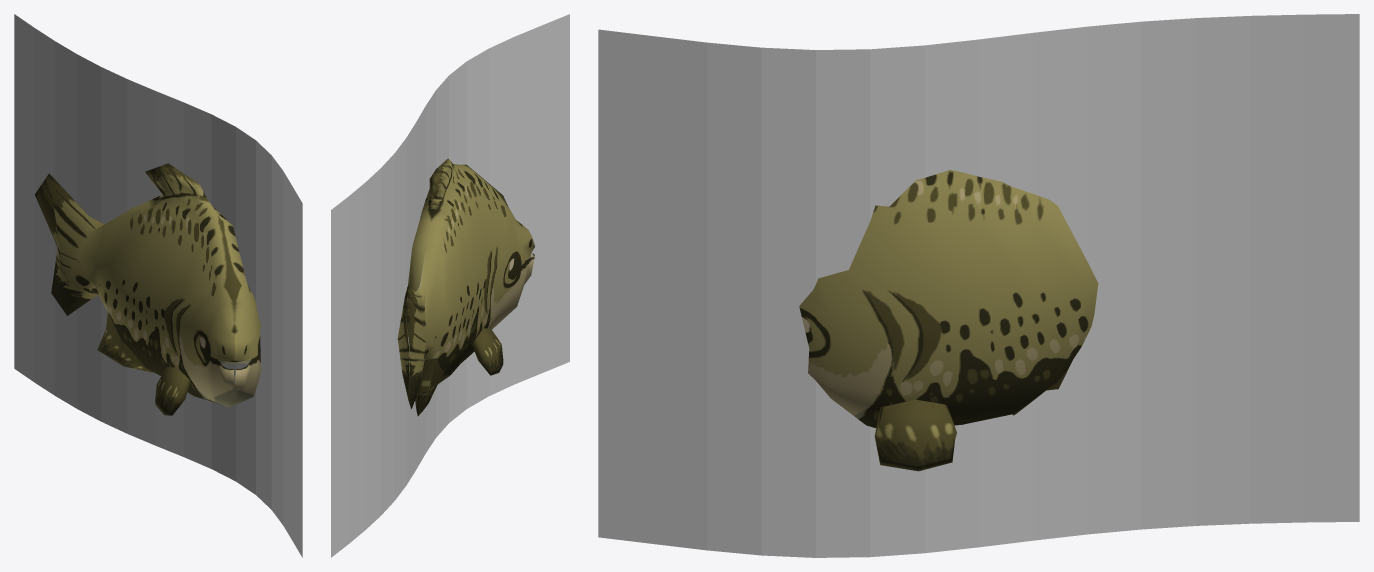
Rendered from Tambaquinadando.fbx.
3 views of the same model, side by side, from view 1: azimuth 30°, elevation 25°; view 2: azimuth 150°, elevation 25°; view 3: azimuth 270°, elevation 25° (orthographic). The views are drawn at different scales.
Parts seen in each view (by area): view 1: Plane, tAmbaqui; view 2: Plane, tAmbaqui; view 3: Plane, tAmbaqui.
Boxes of the visible parts, <box> form: Plane: <box>14,14,302,557</box>; tAmbaqui: <box>35,163,260,415</box>; Plane: <box>331,14,569,557</box>; tAmbaqui: <box>397,158,534,416</box>; Plane: <box>598,14,1359,557</box>; tAmbaqui: <box>799,170,1098,471</box>.
Bounding box in the file's own units: 123 × 387 × 526.
